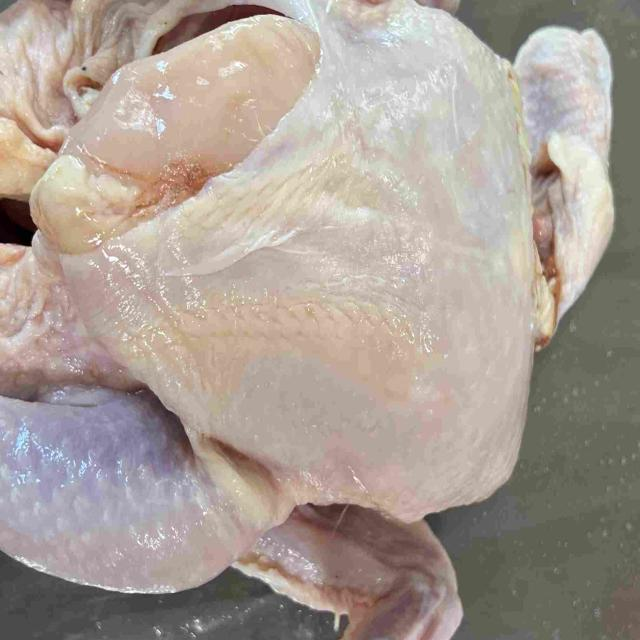breast: (29, 0, 537, 501)
leg: (0, 385, 283, 590)
neck: (515, 31, 617, 342)
wing: (237, 499, 459, 640)
